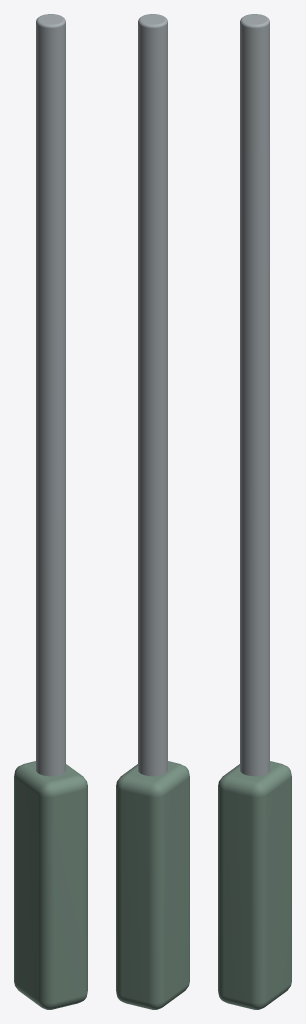
Rendered from sprayWand.glb.
3 renders of one model, left to right at view 1: azimuth 30°, elevation 25°; view 2: azimuth 150°, elevation 25°; view 3: azimuth 330°, elevation 25°, orthographic.
Visible parts, largest first — view 1: Docked spray wand, Spray wand hand grip; view 2: Docked spray wand, Spray wand hand grip; view 3: Docked spray wand, Spray wand hand grip.
Boxes of the visible parts, x1,y1,x2,y2 form: Docked spray wand: (36, 14, 65, 776); Spray wand hand grip: (14, 761, 87, 1009); Docked spray wand: (138, 14, 167, 776); Spray wand hand grip: (116, 761, 189, 1009); Docked spray wand: (240, 14, 269, 776); Spray wand hand grip: (218, 761, 291, 1009).
Size of the model in its own units: 0.022 by 0.43 by 0.028.
Materials: 2 (2 with a texture image).
